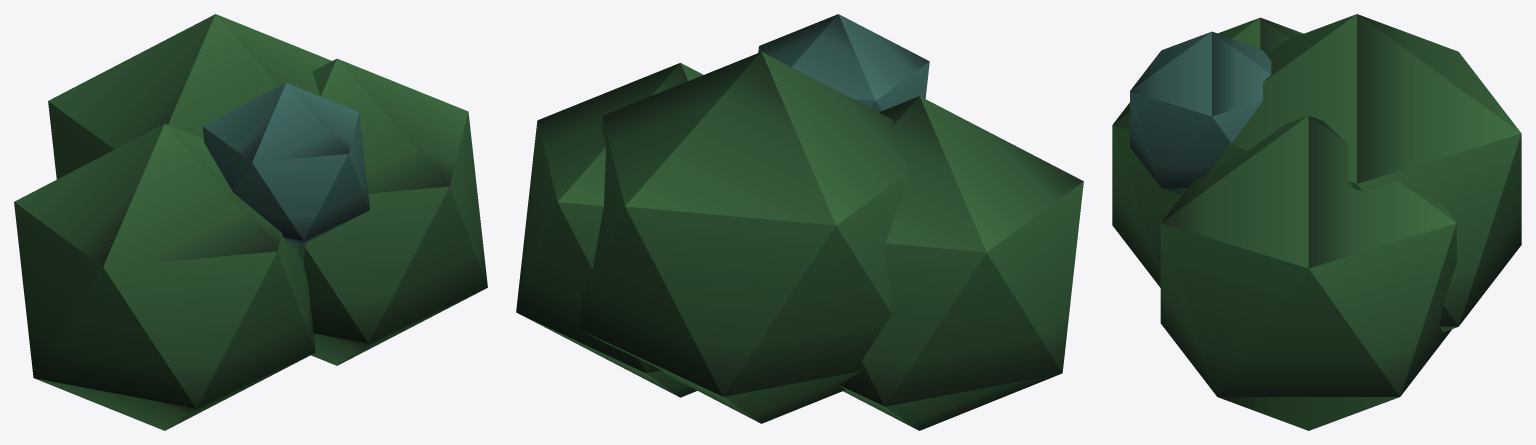
Rendered from bush.gltf.
3 views of the same model, side by side, from view 1: azimuth 30°, elevation 25°; view 2: azimuth 150°, elevation 25°; view 3: azimuth 270°, elevation 25° (orthographic). The views are drawn at different scales.
Parts seen in each view (by area): view 1: bush; view 2: bush; view 3: bush.
Part boxes in pixels (x1,y1,x2,y2): bush: (14,14,487,430); bush: (516,14,1083,430); bush: (1112,14,1521,430).
Size of the model in its own units: 0.562 by 0.42 by 0.4232.
Materials: 1 (1 with a texture image).
